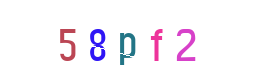2: (127, 0, 207, 80)
5: (27, 0, 107, 80)
8: (57, 0, 137, 80)
F: (92, 0, 172, 80)
P: (86, 0, 166, 80)
